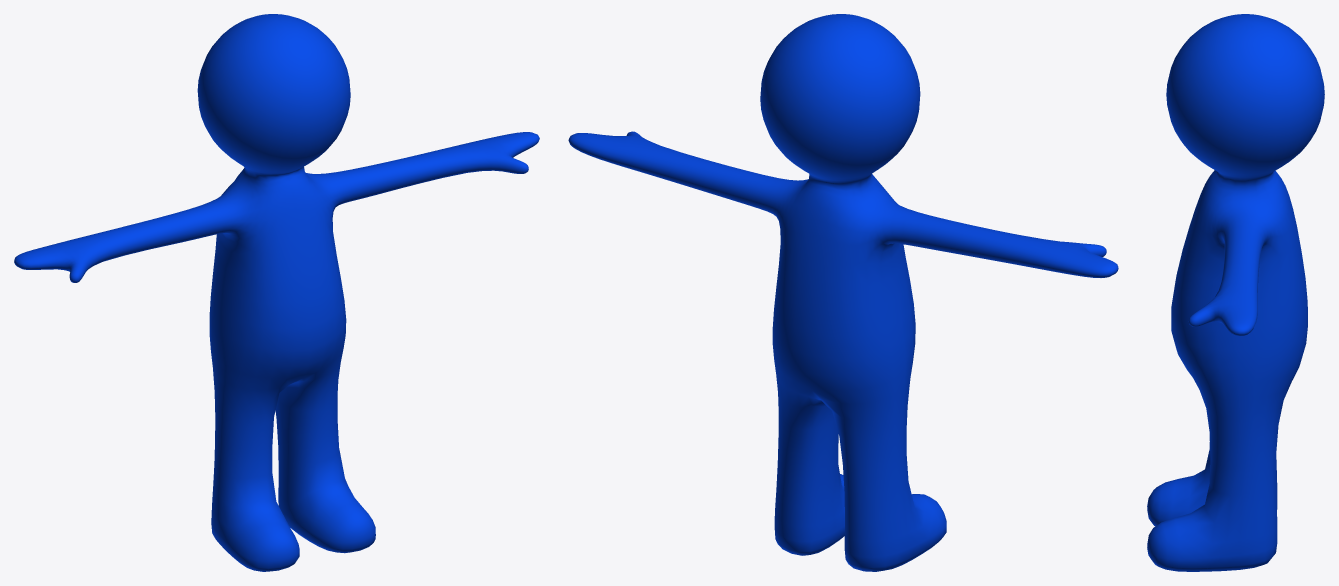
The model's file is stickman.fbx.
3 renders of one model, left to right at view 1: azimuth 30°, elevation 25°; view 2: azimuth 150°, elevation 25°; view 3: azimuth 270°, elevation 25°, orthographic. The views are drawn at different scales.
Visible parts, largest first — view 1: man; view 2: man; view 3: man.
Boxes of the visible parts, x1,y1,x2,y2 form: man: (14,14,539,571); man: (568,14,1118,571); man: (1147,14,1324,571).
Size of the model in its own units: 1307 by 1226 by 376.
